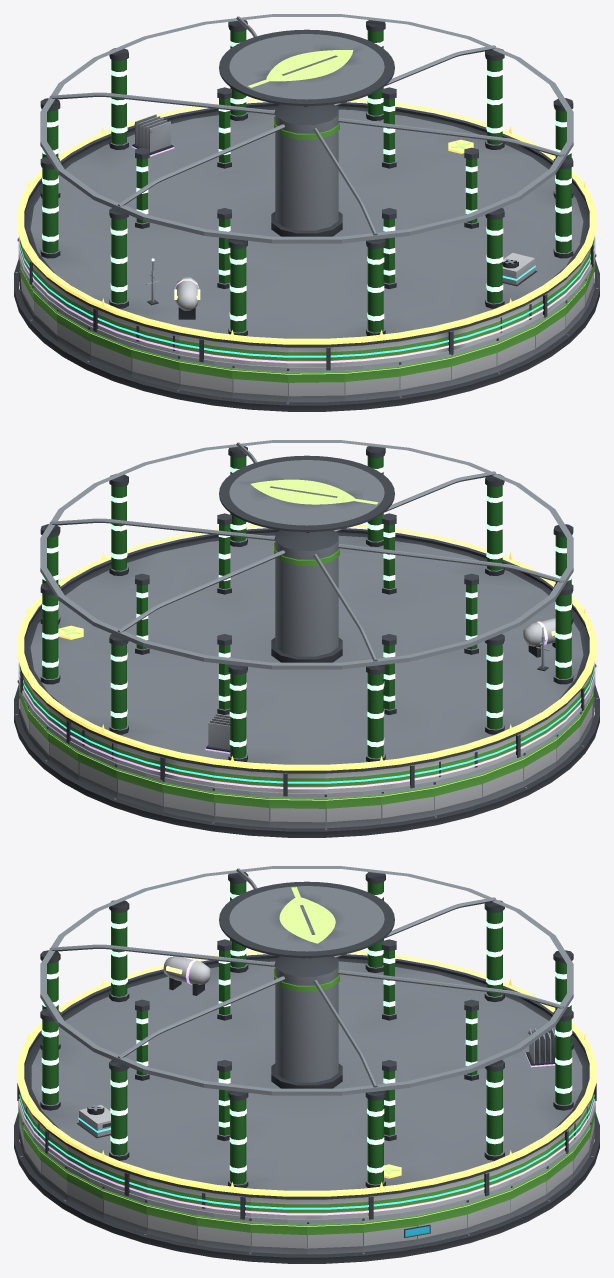
File: algae_bioreactor_xl.glb
3 renders of one model, top to bottom at view 1: azimuth 30°, elevation 25°; view 2: azimuth 150°, elevation 25°; view 3: azimuth 270°, elevation 25°, orthographic.
Visible parts, largest first — view 1: Roof, Base, L4, Wall_21, Wall_20, Wall_22, Wall_19, Wall_23, Wall_18, Wall_24, Wall_17, Wall_25 (+16 smaller); view 2: Roof, Base, Wall_10, Wall_11, Wall_09, L4, Wall_12, Wall_08, Wall_13, Wall_07, Wall_14, Wall_06 (+15 smaller); view 3: Roof, Base, L4, Wall_00, Wall_31, Wall_30, Wall_01, Wall_29, Wall_02, Wall_03, Wall_28, Wall_27 (+16 smaller).
Part boxes in pixels (left/top/right/bottom): Roof: left=23, top=14, right=590, bottom=347; Base: left=14, top=258, right=599, bottom=411; L4: left=131, top=114, right=200, bottom=319; Wall_21: left=288, top=370, right=344, bottom=402; Wall_20: left=232, top=366, right=288, bottom=402; Wall_22: left=344, top=365, right=399, bottom=401; Wall_19: left=179, top=359, right=232, bottom=397; Wall_23: left=399, top=355, right=451, bottom=395; Wall_18: left=131, top=346, right=179, bottom=389; Wall_24: left=450, top=342, right=497, bottom=385; Wall_17: left=90, top=331, right=131, bottom=376; Wall_25: left=496, top=324, right=535, bottom=371; Roof: left=23, top=440, right=590, bottom=773; Base: left=14, top=684, right=599, bottom=837; Wall_10: left=269, top=796, right=325, bottom=828; Wall_11: left=325, top=793, right=381, bottom=828; Wall_09: left=214, top=791, right=269, bottom=827; L4: left=205, top=618, right=555, bottom=753; Wall_12: left=381, top=785, right=434, bottom=823; Wall_08: left=162, top=780, right=214, bottom=821; Wall_13: left=434, top=772, right=482, bottom=815; Wall_07: left=116, top=768, right=163, bottom=811; Wall_14: left=482, top=757, right=523, bottom=802; Wall_06: left=78, top=750, right=117, bottom=797; Roof: left=23, top=866, right=590, bottom=1199; Base: left=14, top=1112, right=599, bottom=1263; L4: left=163, top=956, right=555, bottom=1067; Wall_00: left=307, top=1221, right=363, bottom=1254; Wall_31: left=250, top=1221, right=306, bottom=1254; Wall_30: left=196, top=1214, right=250, bottom=1252; Wall_01: left=363, top=1214, right=417, bottom=1252; Wall_29: left=146, top=1203, right=196, bottom=1244; Wall_02: left=417, top=1203, right=467, bottom=1244; Wall_03: left=466, top=1188, right=511, bottom=1233; Wall_28: left=102, top=1186, right=147, bottom=1233; Wall_27: left=67, top=1170, right=103, bottom=1218.
Size of the model in its own units: 21.35 by 8.9 by 21.35.
